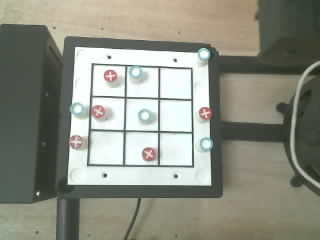blue circle: (129, 66, 143, 79), (138, 109, 151, 122), (70, 103, 84, 115), (200, 137, 212, 151), (198, 48, 210, 60)
board: (68, 47, 212, 185)
cells: (89, 131, 122, 164), (91, 97, 124, 129), (160, 133, 192, 165), (125, 132, 157, 164), (92, 65, 124, 96), (126, 99, 157, 130), (160, 100, 191, 131), (160, 68, 191, 98), (127, 68, 158, 97)
grid: (87, 63, 193, 167)
red cross: (69, 135, 83, 149), (91, 105, 105, 118), (142, 147, 155, 160), (104, 70, 117, 82), (199, 107, 212, 119)
